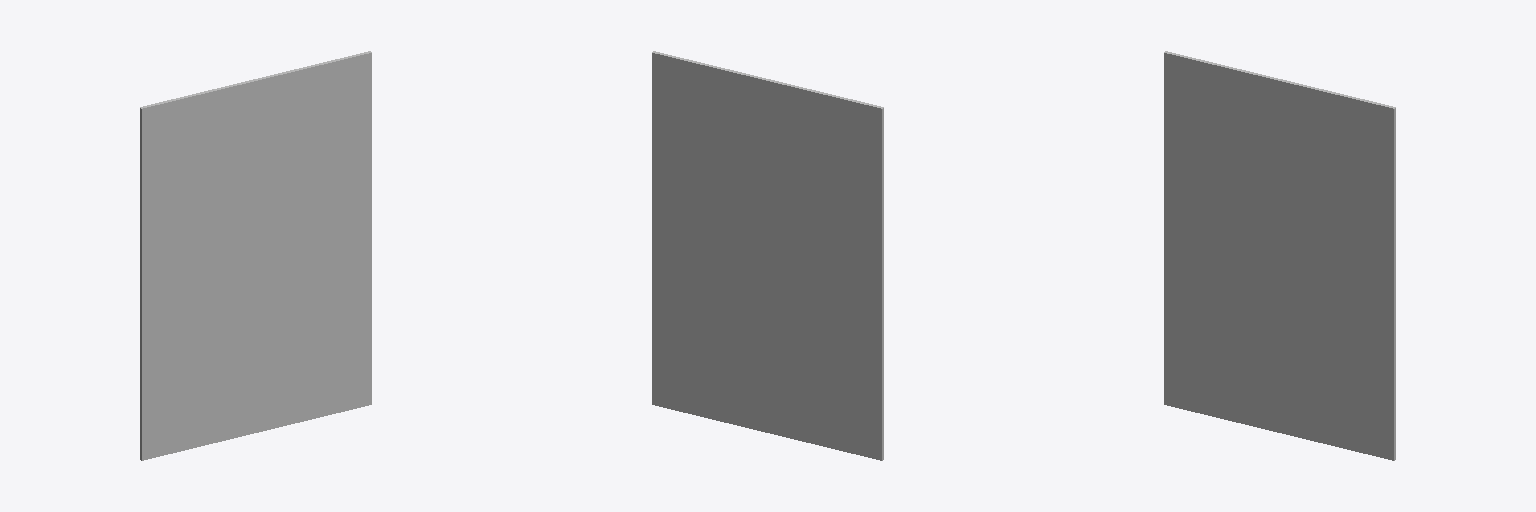
Rendered from card.obj.
3 renders of one model, left to right at view 1: azimuth 30°, elevation 25°; view 2: azimuth 150°, elevation 25°; view 3: azimuth 330°, elevation 25°, orthographic.
Parts seen in each view (by area): view 1: Cube; view 2: Cube; view 3: Cube.
Boxes of the visible parts, <box> form: Cube: <box>140,51,371,460</box>; Cube: <box>652,51,883,460</box>; Cube: <box>1164,51,1395,460</box>.
Size of the model in its own units: 2.97 by 4.33 by 0.0479.